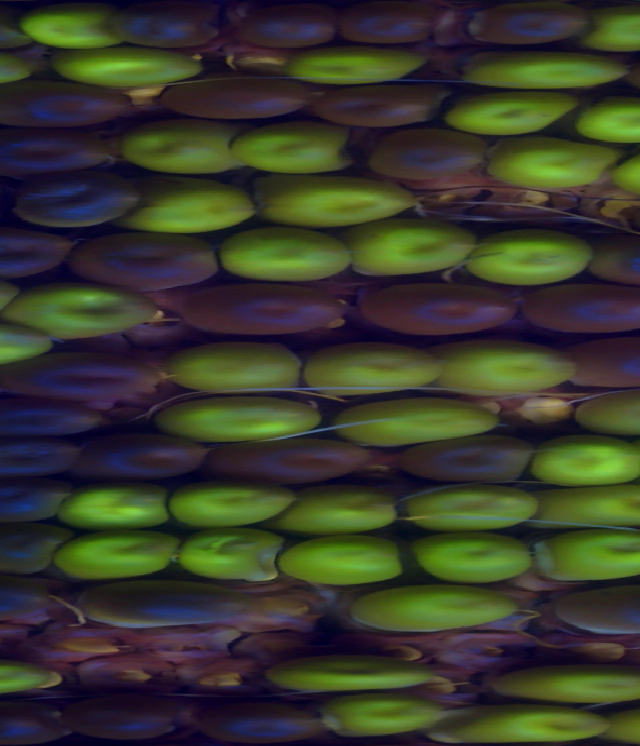fluorescent: (336, 392, 505, 446), (159, 391, 330, 437), (294, 340, 443, 391), (259, 176, 413, 224), (459, 49, 626, 91), (57, 529, 182, 582), (366, 588, 513, 633), (478, 231, 602, 284), (133, 182, 260, 233), (484, 146, 615, 195), (417, 534, 533, 588), (447, 88, 582, 133), (449, 347, 568, 398), (494, 660, 640, 701), (220, 233, 353, 278), (281, 531, 405, 579), (528, 431, 640, 484), (356, 217, 470, 269), (30, 289, 153, 336), (166, 345, 299, 388), (392, 489, 546, 526), (128, 123, 243, 172), (439, 710, 604, 742), (533, 536, 640, 585), (288, 40, 411, 82), (246, 124, 352, 172), (169, 485, 301, 523), (184, 534, 282, 582), (268, 658, 443, 684), (282, 489, 388, 530), (320, 694, 439, 730), (53, 59, 215, 85), (28, 1, 110, 52), (66, 488, 169, 523), (544, 488, 640, 523), (0, 318, 46, 369), (576, 400, 640, 436), (584, 104, 640, 145), (599, 4, 640, 59), (0, 653, 44, 700), (0, 53, 34, 94), (607, 158, 640, 197), (608, 707, 640, 746)
nonfluorescent: (353, 271, 536, 333), (211, 429, 375, 484), (17, 347, 159, 407), (191, 278, 353, 330), (79, 575, 244, 626), (79, 230, 221, 285), (197, 685, 324, 746), (0, 82, 134, 134), (2, 179, 131, 229), (66, 688, 184, 742), (223, 8, 355, 56), (172, 72, 307, 118), (106, 1, 227, 50), (470, 1, 613, 42), (544, 582, 640, 643), (368, 133, 482, 184), (318, 81, 450, 124), (86, 429, 195, 481), (527, 281, 640, 327), (404, 437, 527, 478), (0, 394, 101, 443), (334, 7, 437, 55), (0, 562, 62, 630), (0, 133, 98, 175), (570, 330, 640, 387), (0, 475, 69, 526), (0, 695, 66, 746), (0, 445, 82, 482), (0, 527, 68, 571), (0, 234, 69, 272), (589, 236, 640, 284)
